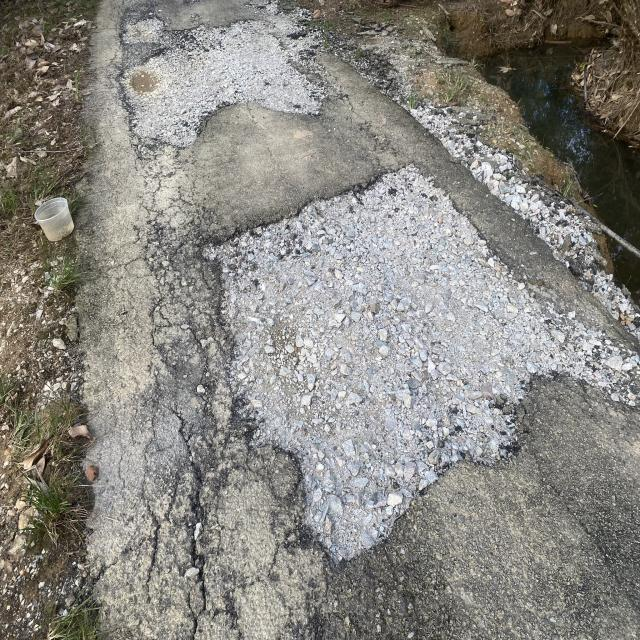pothole: (138, 143, 570, 523), (93, 17, 374, 216)
